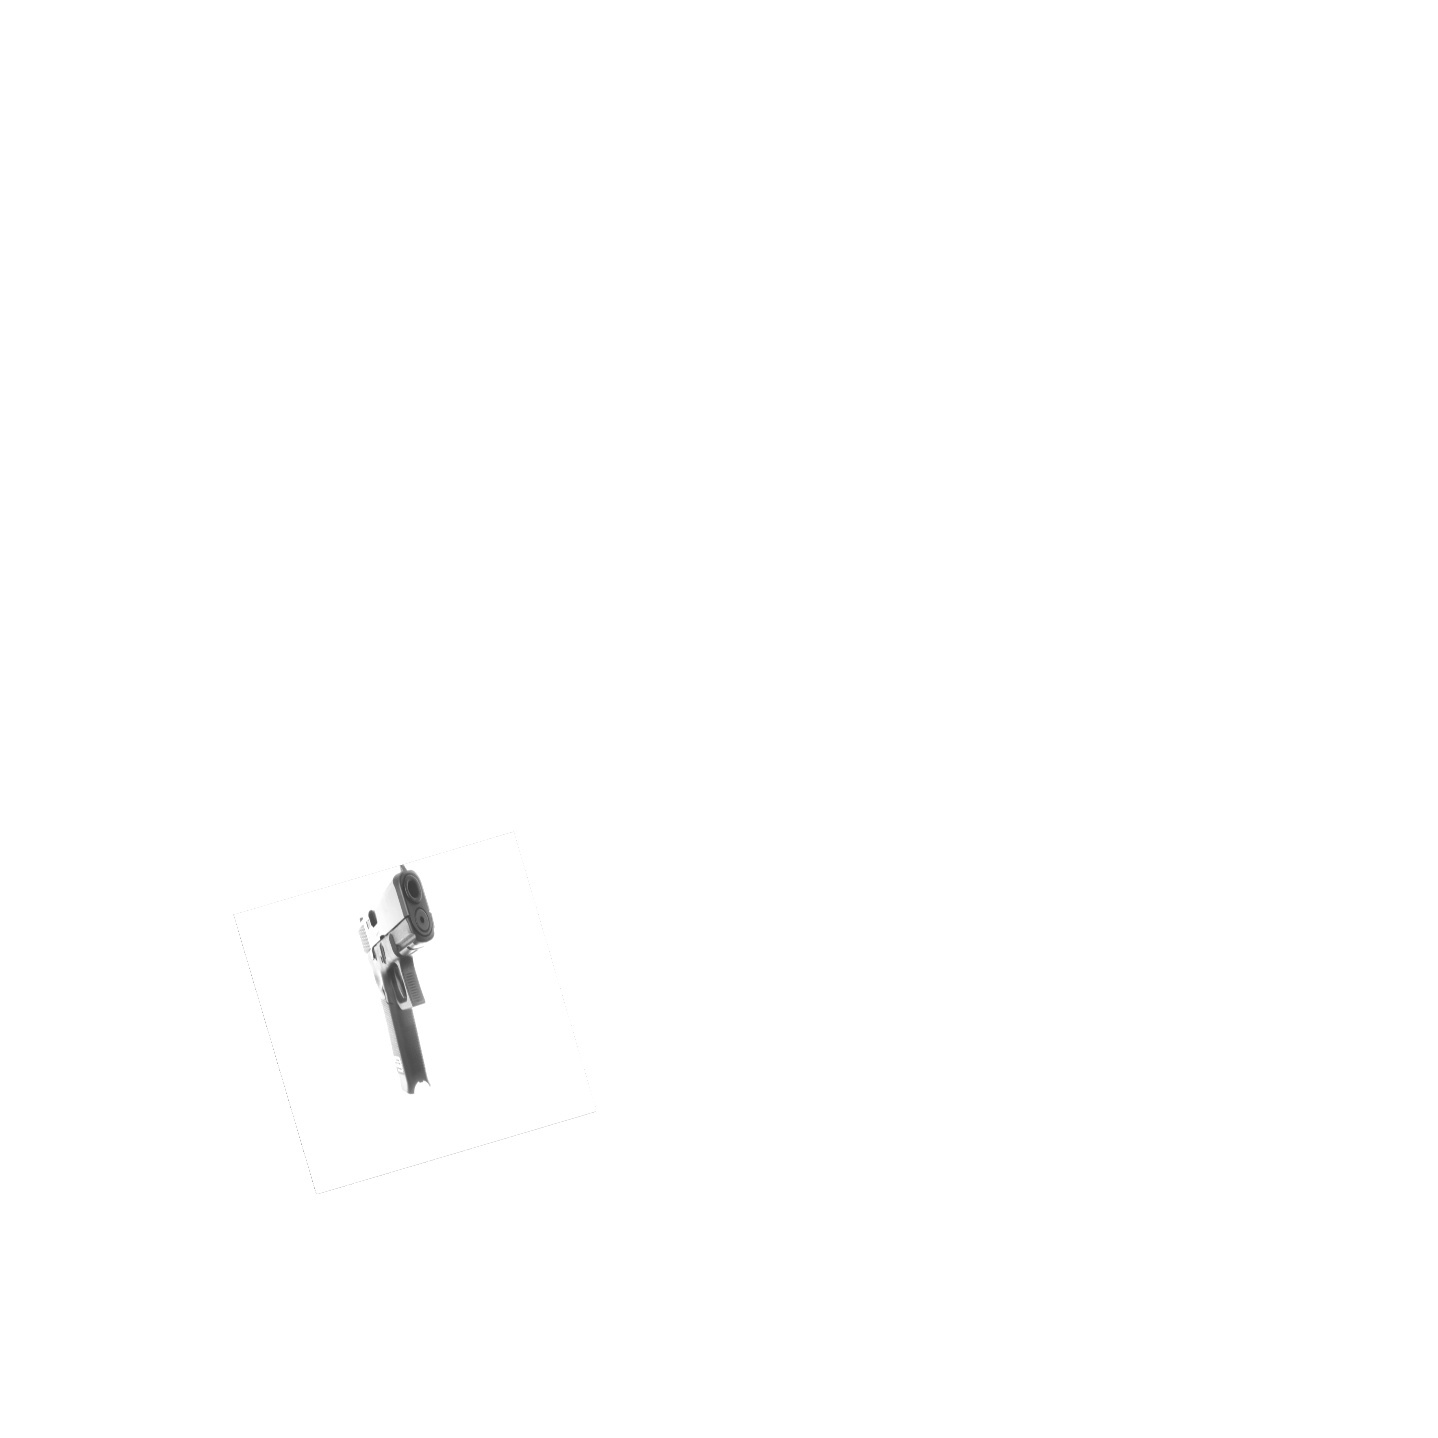gun: (354, 856, 458, 1097)
